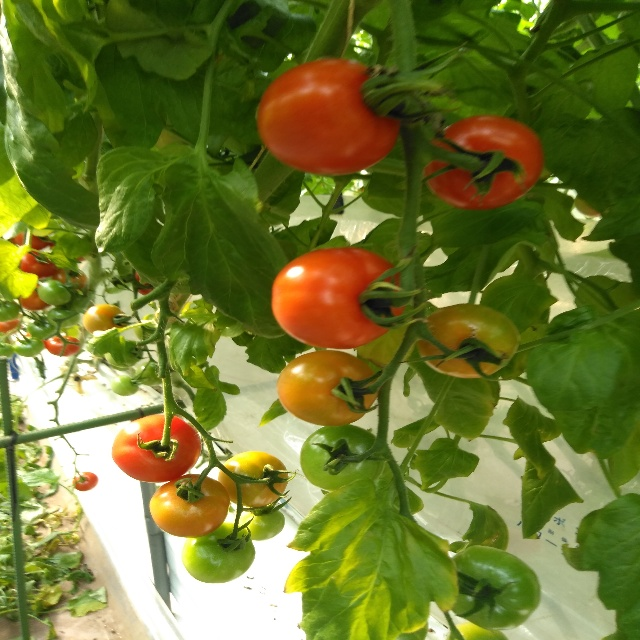l_fully_ripened: (256, 59, 401, 176), (270, 246, 407, 349), (424, 114, 545, 209), (112, 414, 202, 484), (20, 251, 58, 279), (46, 335, 81, 356), (72, 472, 98, 492)
l_green: (451, 545, 542, 631), (299, 425, 388, 492), (180, 523, 255, 584), (236, 505, 286, 541), (443, 622, 508, 640), (37, 279, 72, 306), (28, 316, 59, 339), (135, 361, 162, 386), (48, 307, 80, 328), (13, 336, 45, 357), (111, 374, 138, 396)
l_half_ripened: (277, 349, 380, 426), (418, 304, 520, 378), (149, 473, 230, 538), (218, 452, 289, 508), (82, 304, 128, 335), (52, 267, 88, 290)
